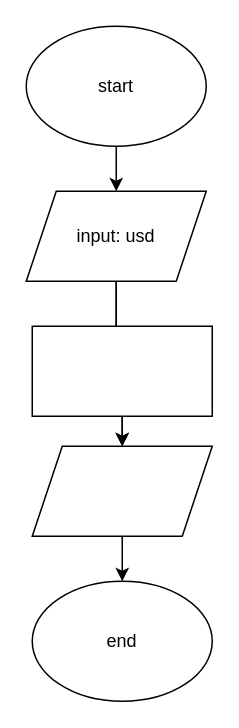
Image size: 239x728. Some labels were removed from this diagram. Here are the shapes that lost their labels. From the top down, the centre of each, then its label:
At point 121,370: "VNĐ = usd * 23000".
At point 121,490: "display: VNĐ".
